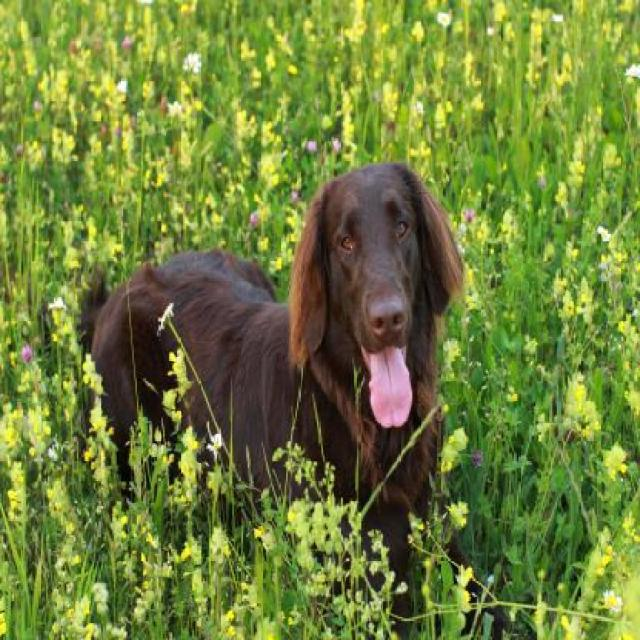animals: (66, 142, 520, 616)
